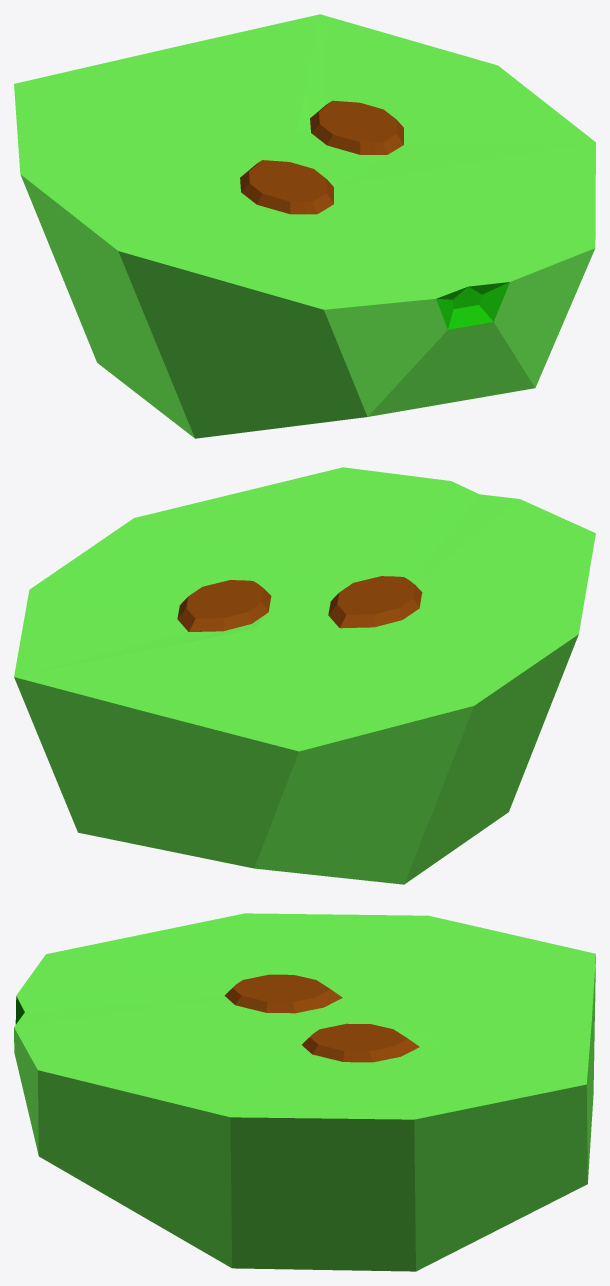
File: grapes03.gltf
The picture shows the model from 3 angles, top to bottom: view 1: azimuth 30°, elevation 25°; view 2: azimuth 150°, elevation 25°; view 3: azimuth 270°, elevation 25°; orthographic projection. The views are drawn at different scales.
Parts seen in each view (by area): view 1: Cylinder.001; view 2: Cylinder.001; view 3: Cylinder.001.
Boxes of the visible parts, x1=… form: Cylinder.001: x1=14, y1=14, x2=595, y2=438; Cylinder.001: x1=14, y1=467, x2=595, y2=884; Cylinder.001: x1=14, y1=913, x2=595, y2=1271.
Size of the model in its own units: 0.0196 by 0.00908 by 0.0234.
Materials: 1 (1 with a texture image).
